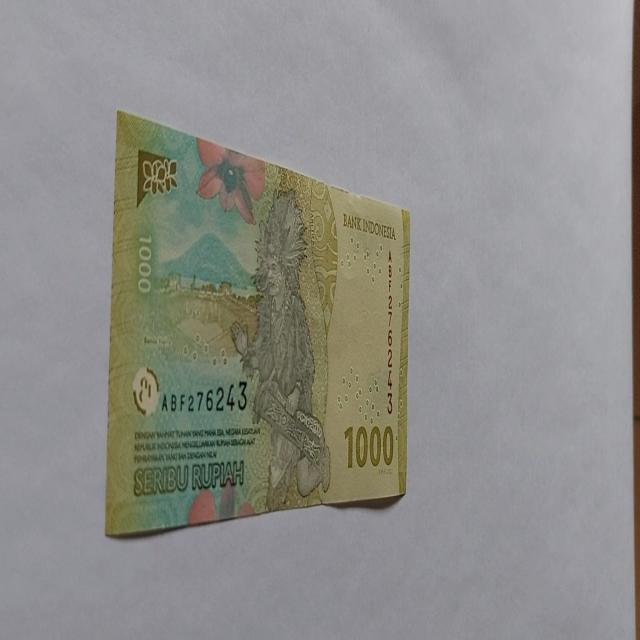seribu rupiah kertas: (105, 107, 412, 537), (231, 186, 331, 512)
